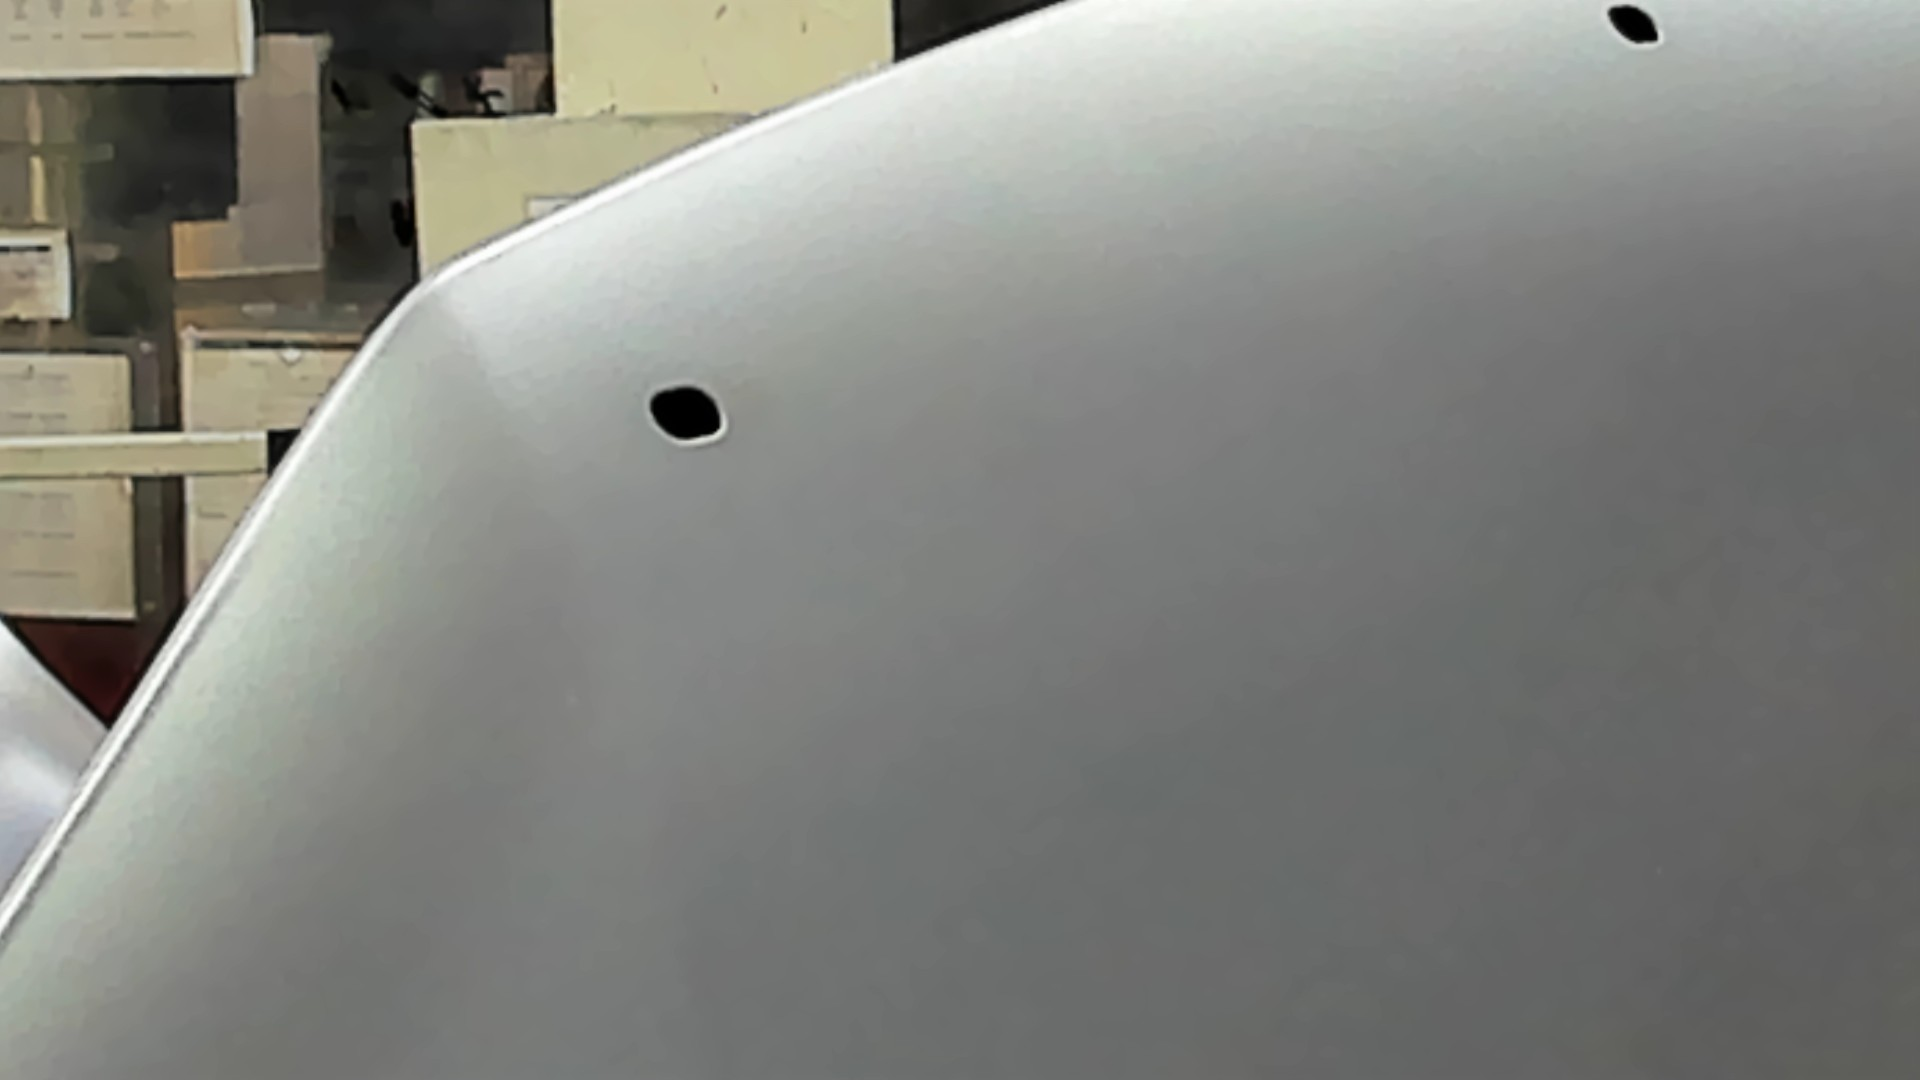amorfo: (640, 378, 733, 444), (1602, 1, 1665, 58)
